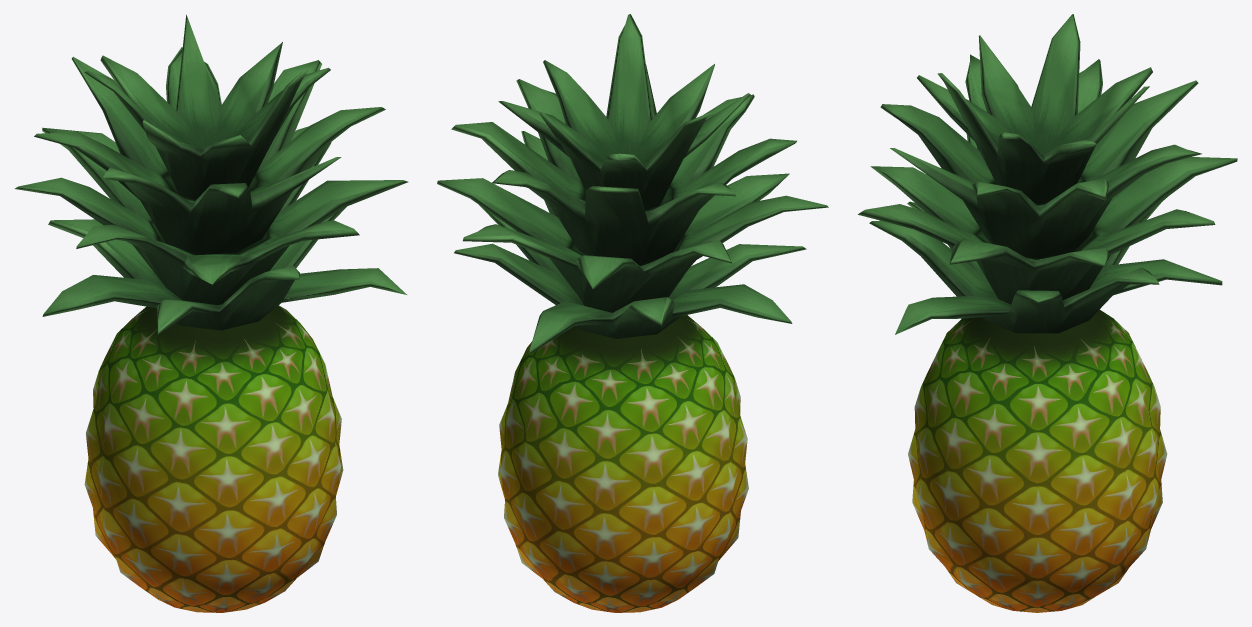
The model's file is Pineapple.fbx.
3 views of the same model, side by side, from view 1: azimuth 30°, elevation 25°; view 2: azimuth 150°, elevation 25°; view 3: azimuth 270°, elevation 25° (orthographic). The views are drawn at different scales.
Visible parts, largest first — view 1: Pineapple; view 2: Pineapple; view 3: Pineapple.
Part boxes in pixels (x1,y1,x2,y2): Pineapple: (14, 14, 408, 612); Pineapple: (437, 14, 828, 612); Pineapple: (858, 14, 1237, 612).
Bounding box in the file's own units: 72.85 × 116 × 73.33.
